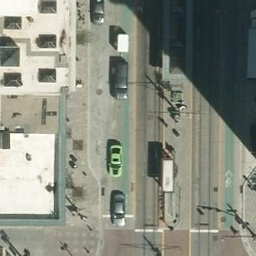car: (107, 191, 127, 228), (112, 67, 129, 100), (107, 144, 124, 177), (89, 1, 107, 25)
